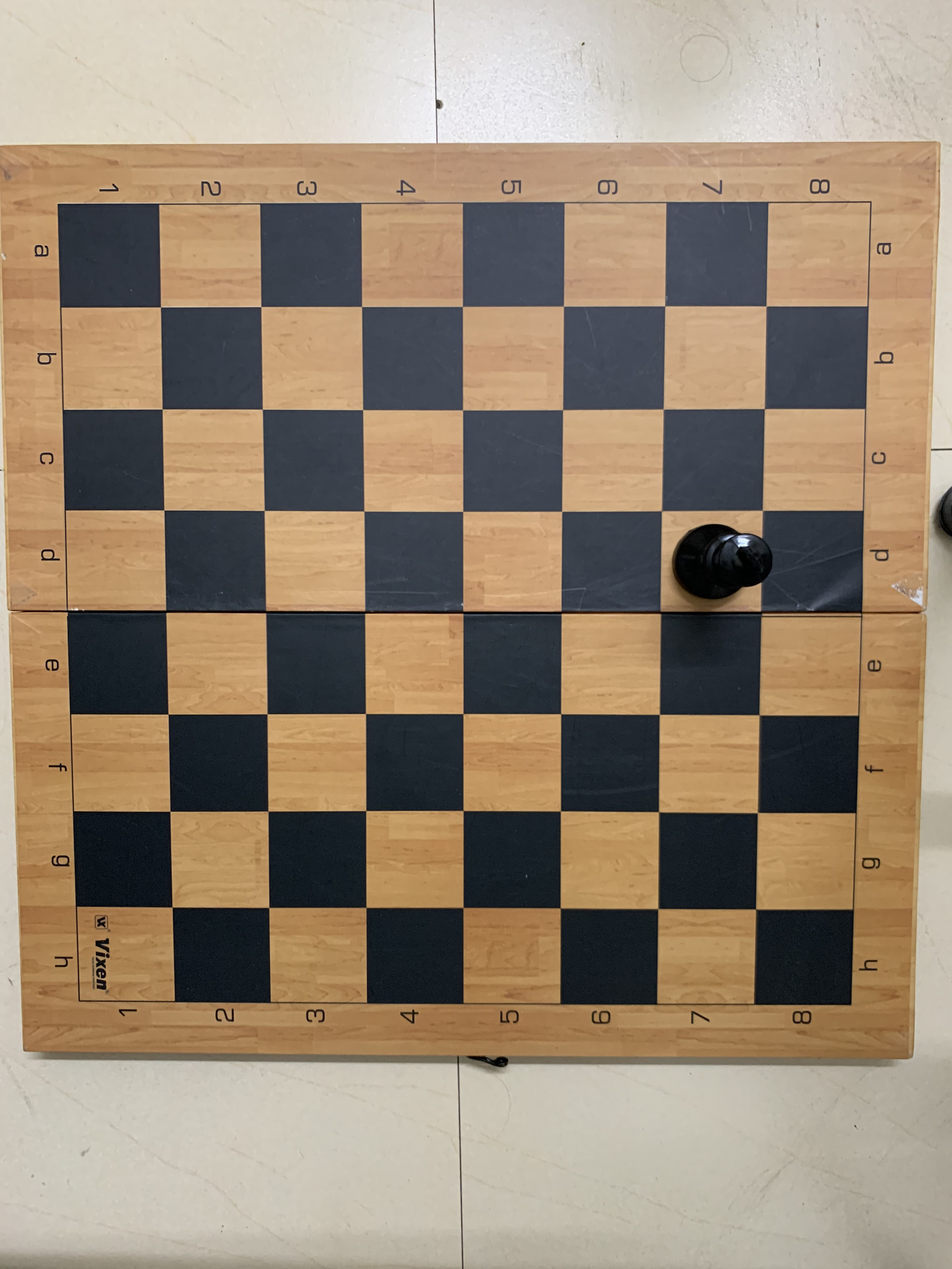black_king: (663, 512, 771, 615)
